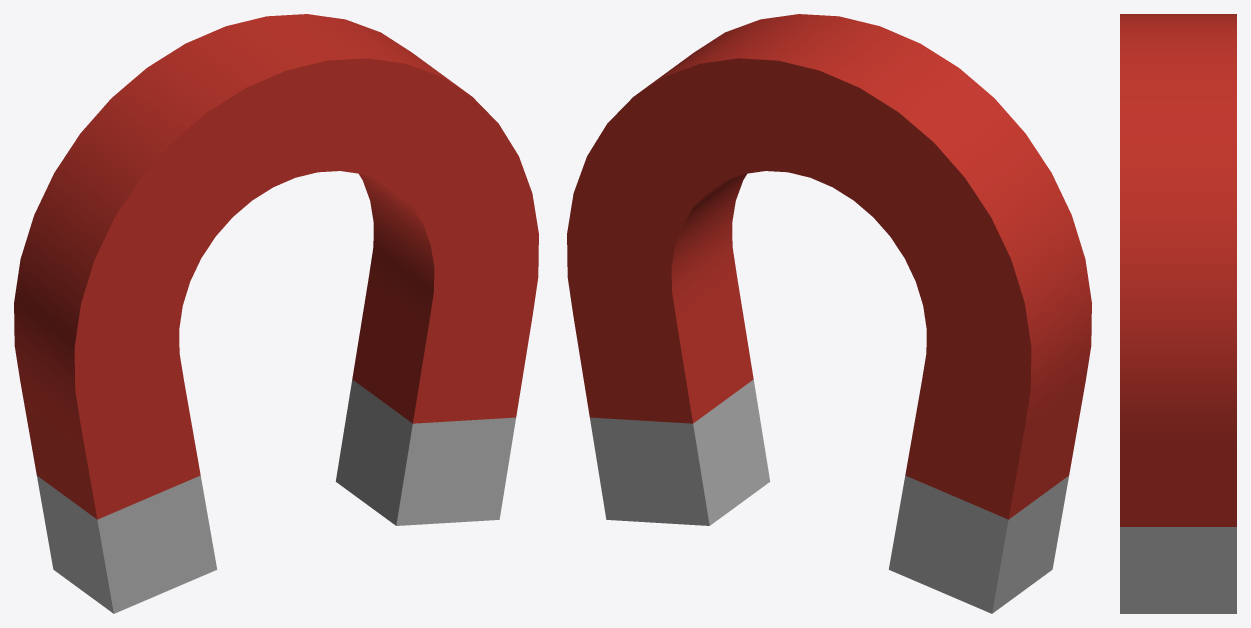
The model's file is Magnet.fbx.
The picture shows the model from 3 angles, left to right: view 1: azimuth 30°, elevation 25°; view 2: azimuth 150°, elevation 25°; view 3: azimuth 270°, elevation 25°; orthographic projection. The views are drawn at different scales.
Parts seen in each view (by area): view 1: Magnet; view 2: Magnet; view 3: Magnet.
Boxes of the visible parts, left/top/right/bottom form: Magnet: left=14, top=14, right=538, bottom=613; Magnet: left=567, top=14, right=1091, bottom=613; Magnet: left=1120, top=14, right=1236, bottom=613.
Bounding box in the file's own units: 443 × 100 × 457.
